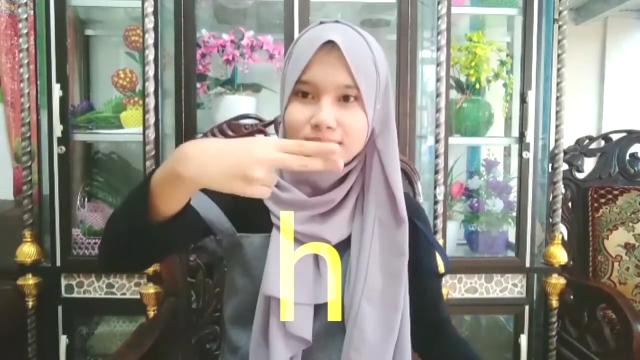H: (177, 135, 347, 207)
